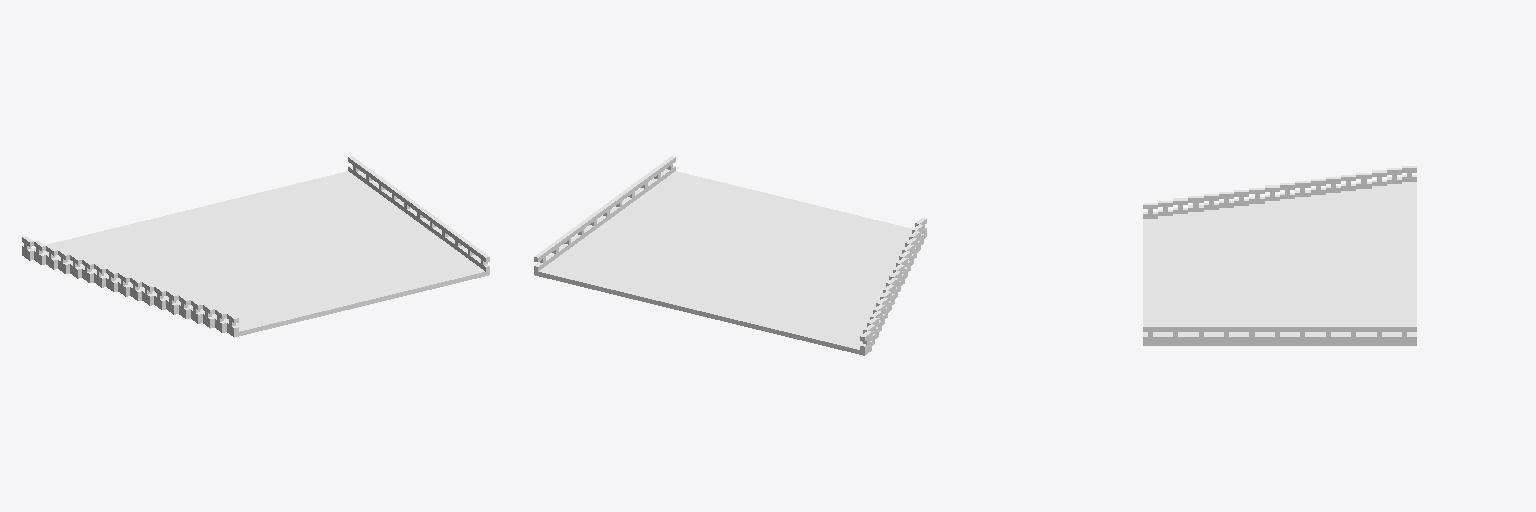
The model's file is Split_0-0.obj.
3 views of the same model, side by side, from view 1: azimuth 30°, elevation 25°; view 2: azimuth 150°, elevation 25°; view 3: azimuth 270°, elevation 25° (orthographic).
Parts seen in each view (by area): view 1: Split_0-0; view 2: Split_0-0; view 3: Split_0-0.
Part boxes in pixels (bbox=[...]): Split_0-0: bbox=[22, 156, 489, 337]; Split_0-0: bbox=[534, 156, 926, 355]; Split_0-0: bbox=[1143, 166, 1416, 345].
Size of the model in its own units: 75 by 4 by 54.